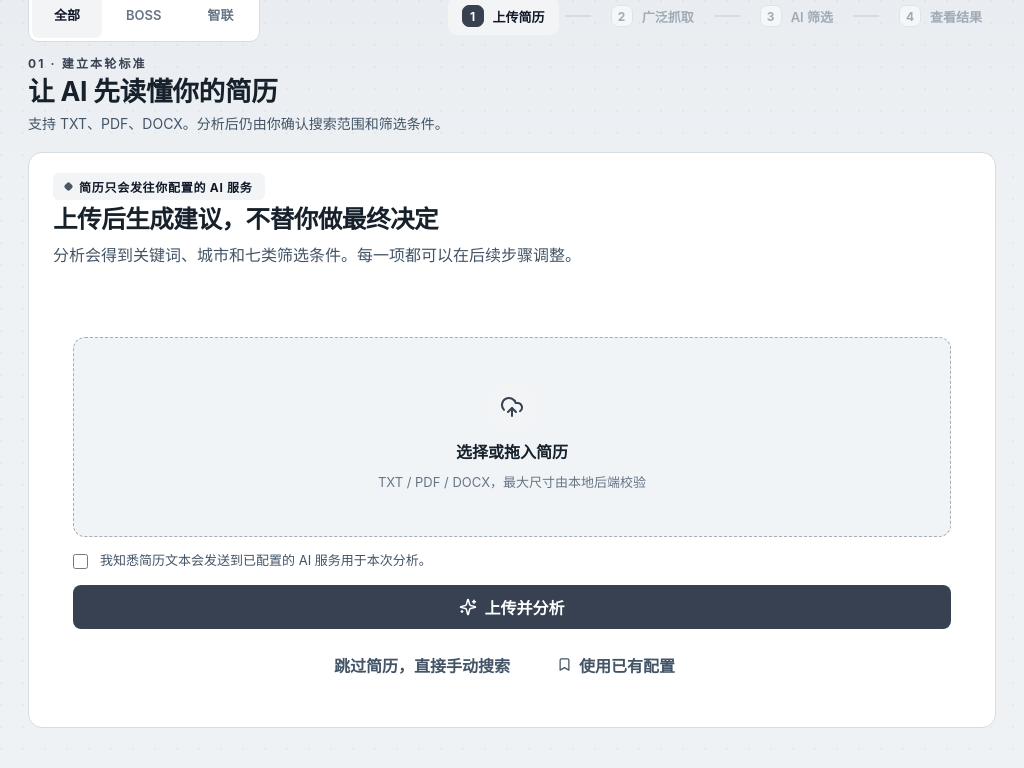
Test: DiscoveryView 常用搜索配置包 › T039: V1 配置不触发条件映射重算，条件保持空白
(page scrolled)
Click the button with test id "saved-package-entry" at (616, 664), box [544,646,688,682]
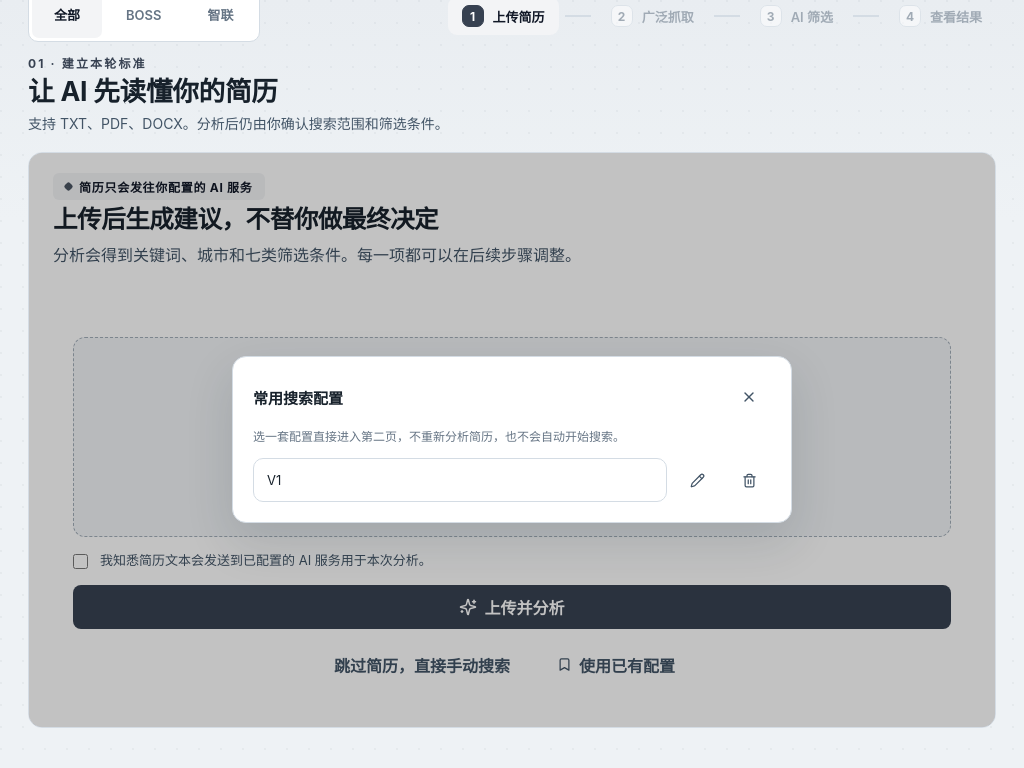
Click the button with test id "package-item" at (274, 480), box [253,458,667,502]
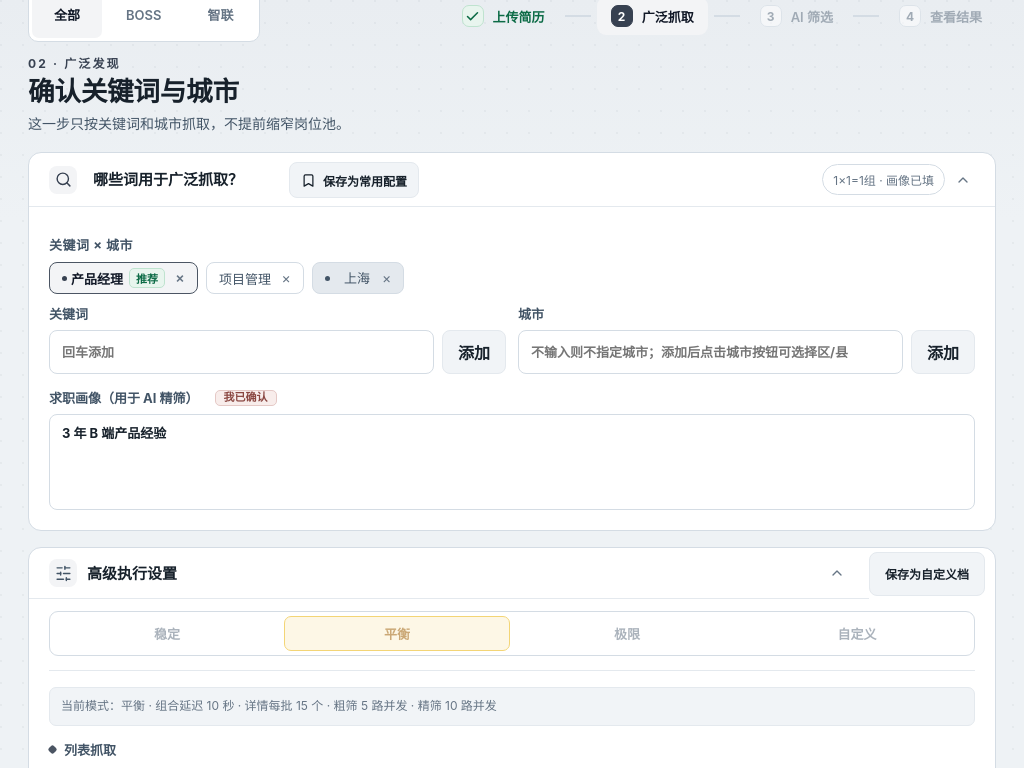
Now the element with class "upload-layout" is gone
